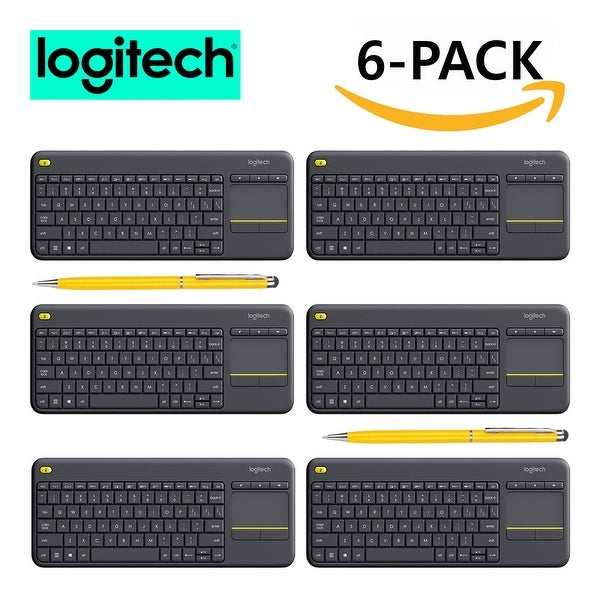logitech-keyboard-k400: (27, 146, 301, 264), (305, 148, 572, 264)
